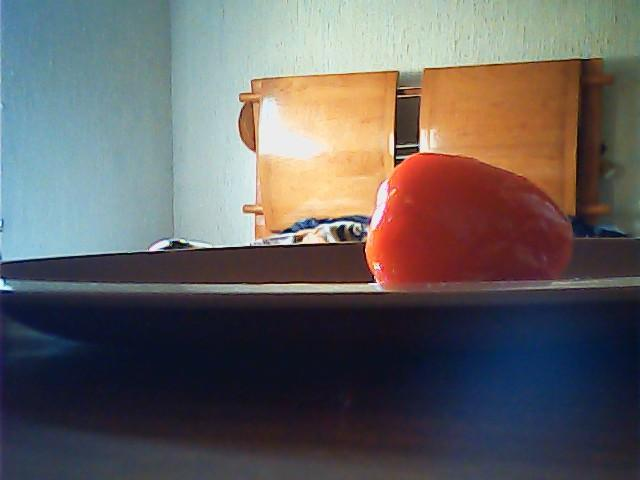maduro: (364, 153, 570, 288)
